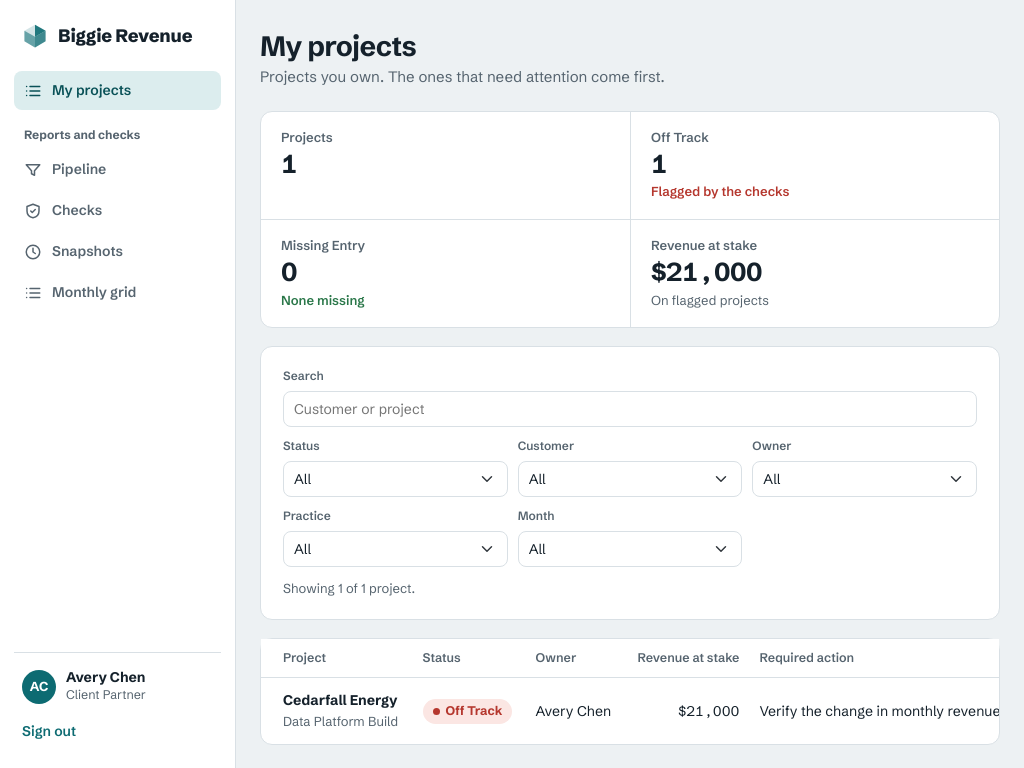
Test: App shell and sign-in › signs out with the CSRF token and returns to the sign-in screen
What coordinates should you click on to do the following:
click the button "Sign out"
I would click on:
 (118, 732)
Its box is [22,717,213,746].
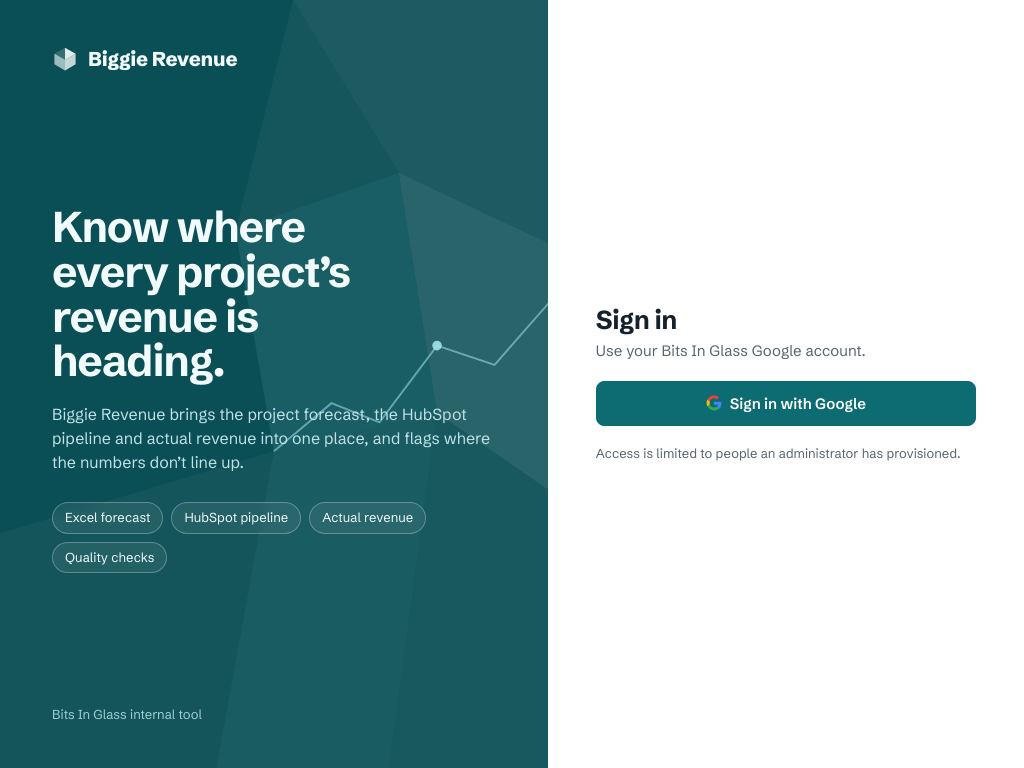
Now the link "Sign in with Google" is shown, box [596,381,976,426]
Now the text "Cedarfall Energy" is gone
